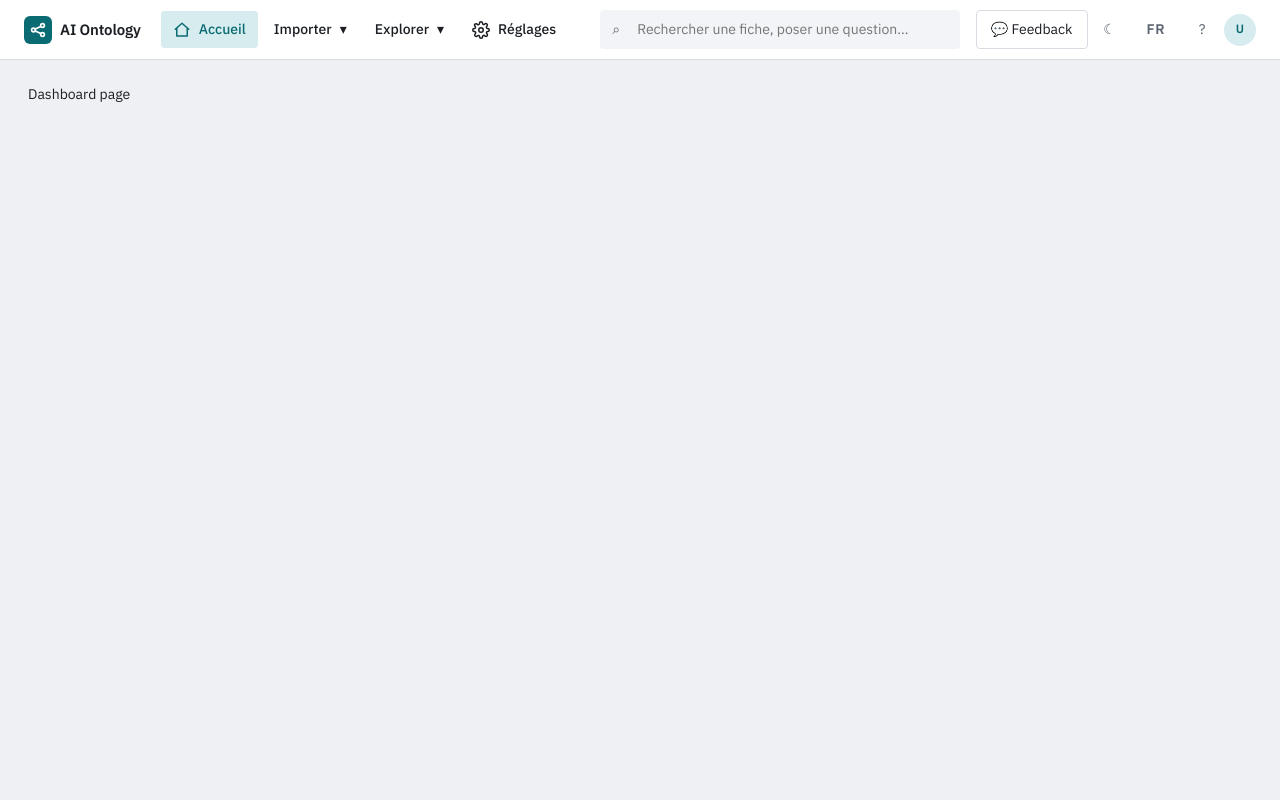
Test: TopBar › opens and closes the feedback modal
The width and height of the screenshot is (1280, 800).
Expected: the heading "Envoyer un feedback" is not shown
Click the button "💬 Feedback".
click(1032, 30)  # box 976,10 -> 1088,49
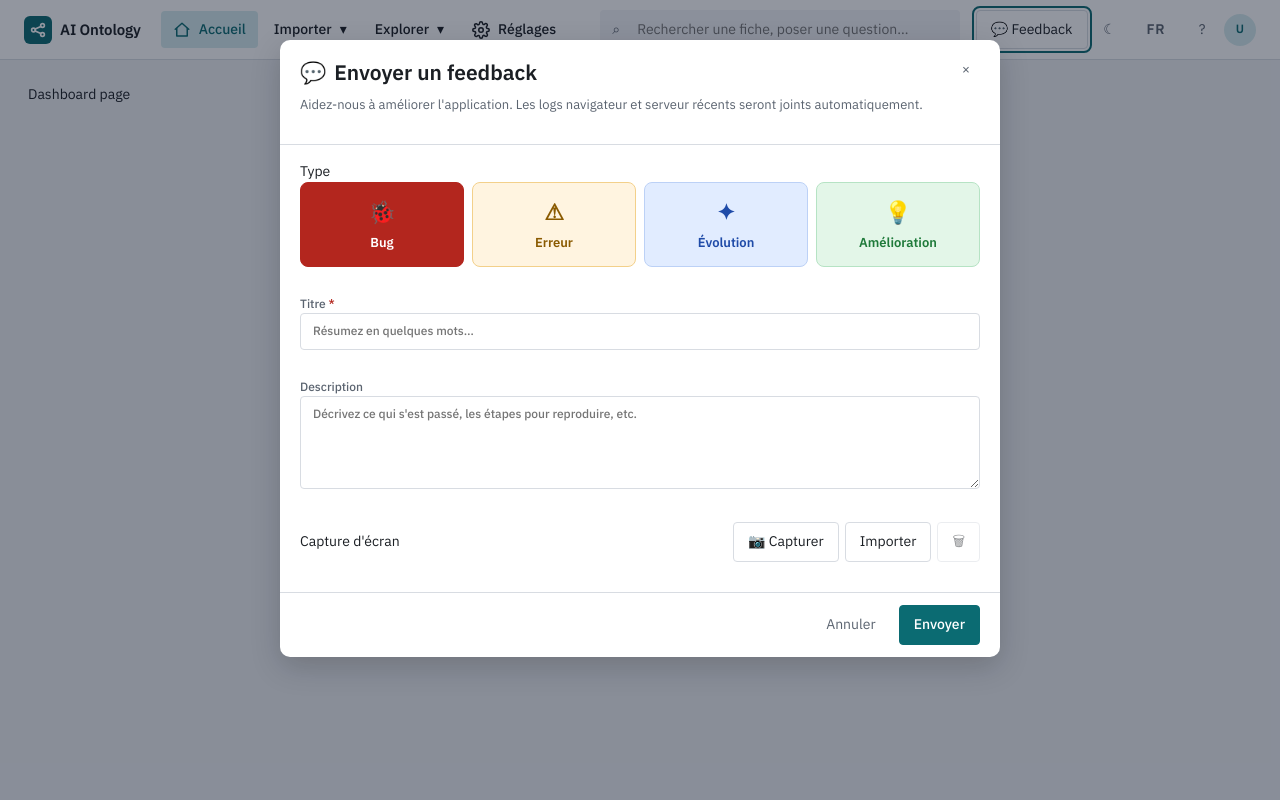
Expected: the heading "💬 Envoyer un feedback" is shown, 300,58 -> 537,86
Click the button titled "Fermer".
click(966, 70)  # box 952,56 -> 980,84
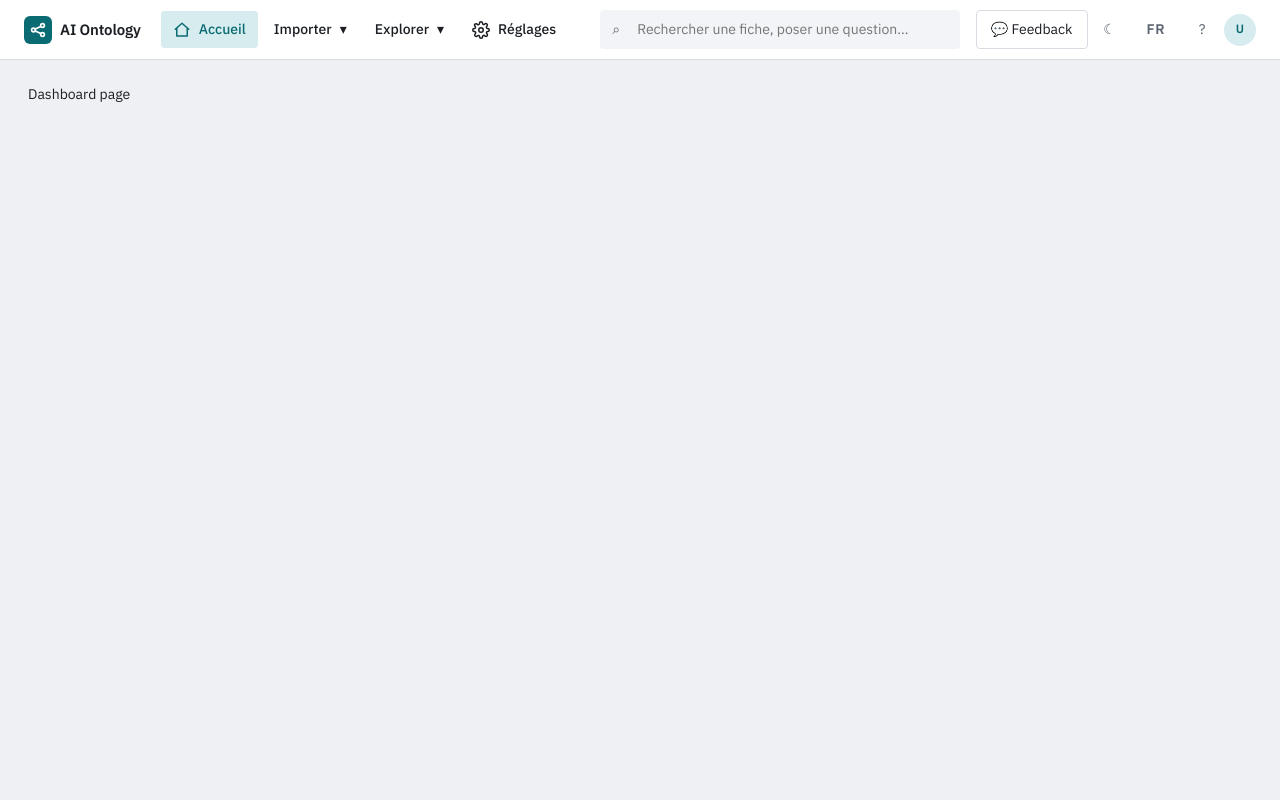
Expected: the heading "Envoyer un feedback" is gone
